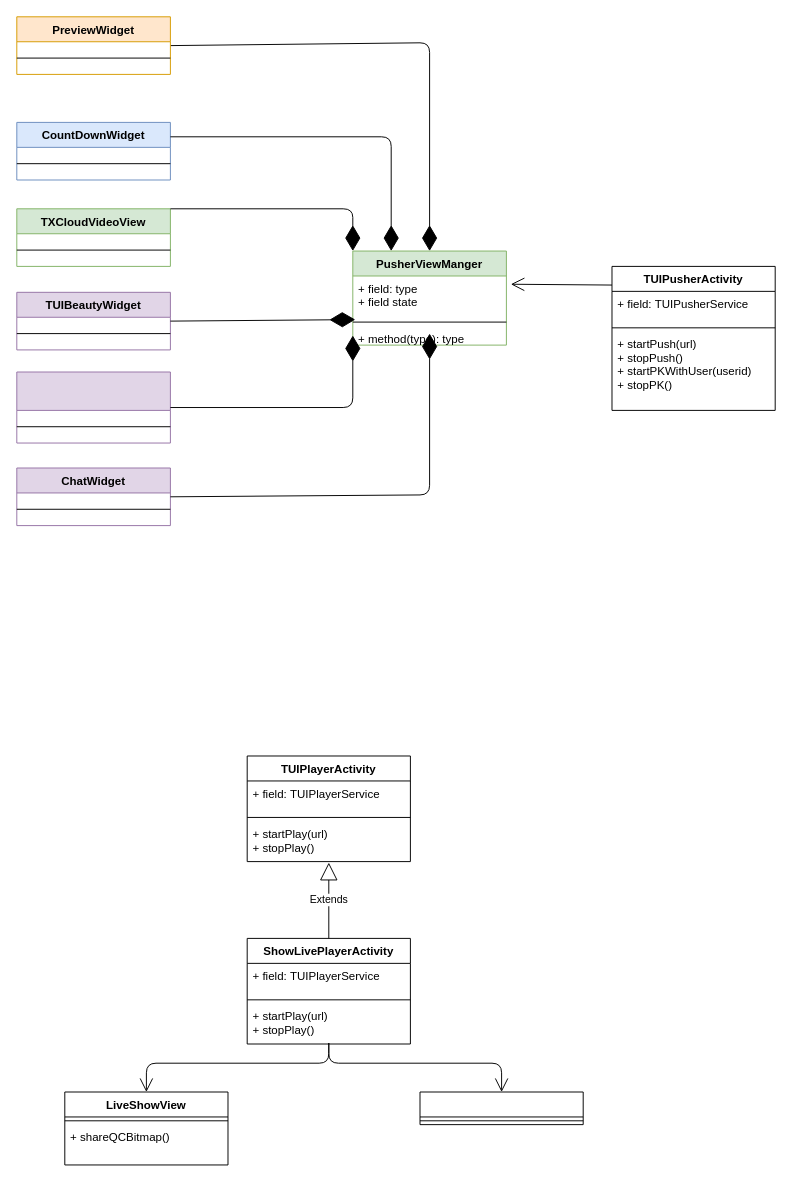
This 792x1185 diagram has some shape labels left out. Here are the shapes that lost their labels. From the top down, the centre of each, then its label:
the point at 93,407: TUIAudioEffectWidget
the point at 501,1108: OtherView
